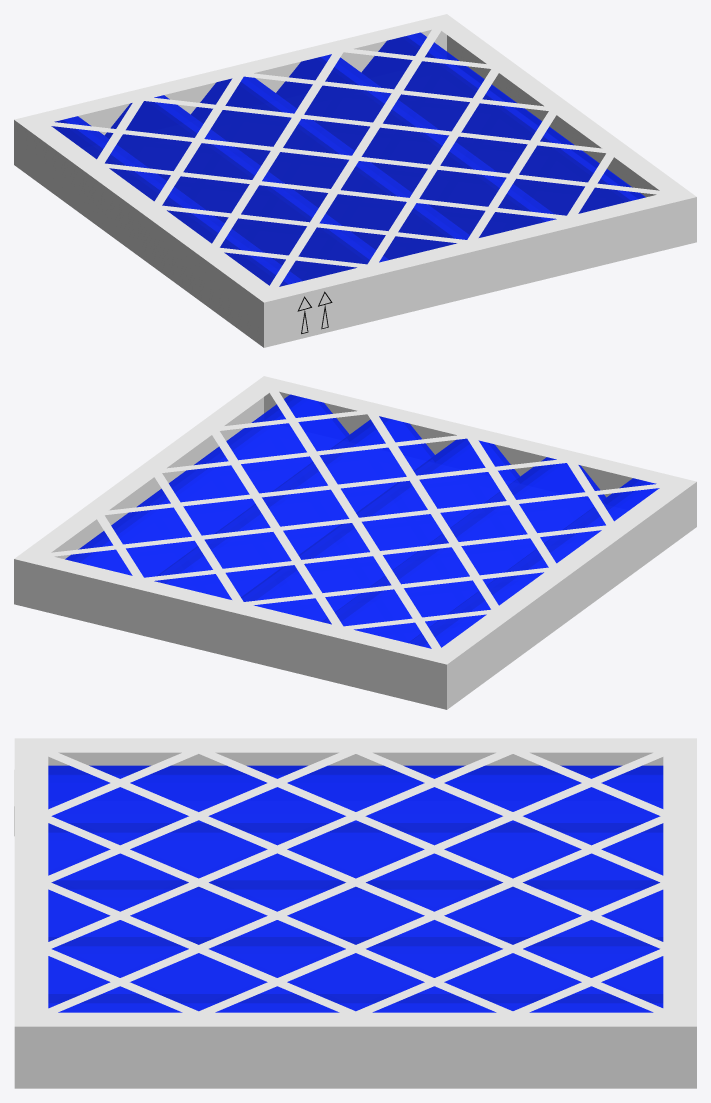
The picture shows the model from 3 angles, top to bottom: view 1: azimuth 30°, elevation 25°; view 2: azimuth 150°, elevation 25°; view 3: azimuth 270°, elevation 25°; orthographic projection. The views are drawn at different scales.
Parts seen in each view (by area): view 1: filter_case, filter_material; view 2: filter_case, filter_material; view 3: filter_case, filter_material.
Boxes of the visible parts, x1,y1,x2,y2 form: filter_case: (14,14,696,347); filter_material: (51,32,645,286); filter_case: (14,376,696,709); filter_material: (65,394,659,648); filter_case: (14,738,696,1088); filter_material: (48,765,663,1012).
Size of the model in its own units: 20 by 20.02 by 2.
